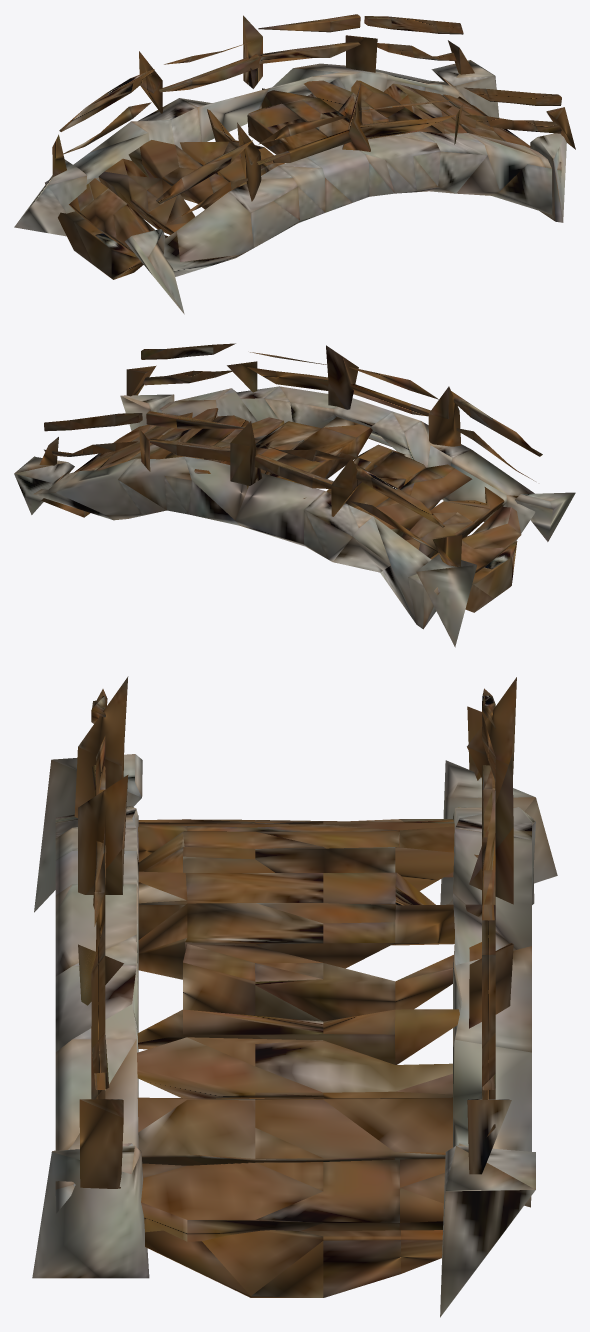
File: 53-small-bridge.glb
3 views of the same model, one above another, from view 1: azimuth 30°, elevation 25°; view 2: azimuth 150°, elevation 25°; view 3: azimuth 270°, elevation 25° (orthographic). The views are drawn at different scales.
Parts seen in each view (by area): view 1: geometry_0; view 2: geometry_0; view 3: geometry_0.
Boxes of the visible parts, box(x1,y1,x2,y2) form: geometry_0: box(14, 14, 575, 314); geometry_0: box(14, 343, 575, 647); geometry_0: box(32, 676, 557, 1317).
Size of the model in its own units: 0.9155 by 0.3232 by 0.46.
1 material, 1 textured.
